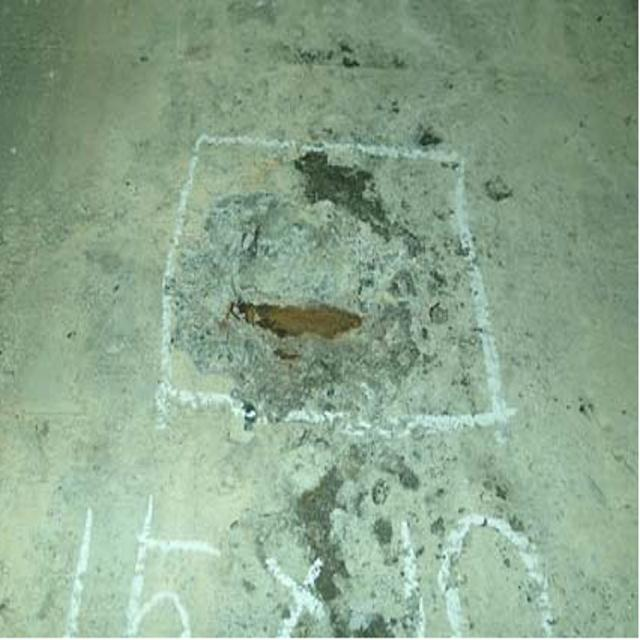spalling: (174, 163, 436, 411)
